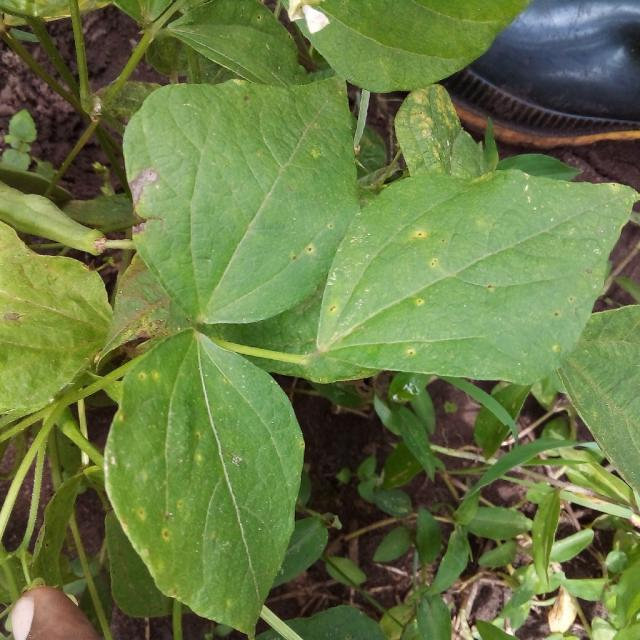hawar: (86, 168, 176, 230)
mozaik: (64, 320, 523, 634)
